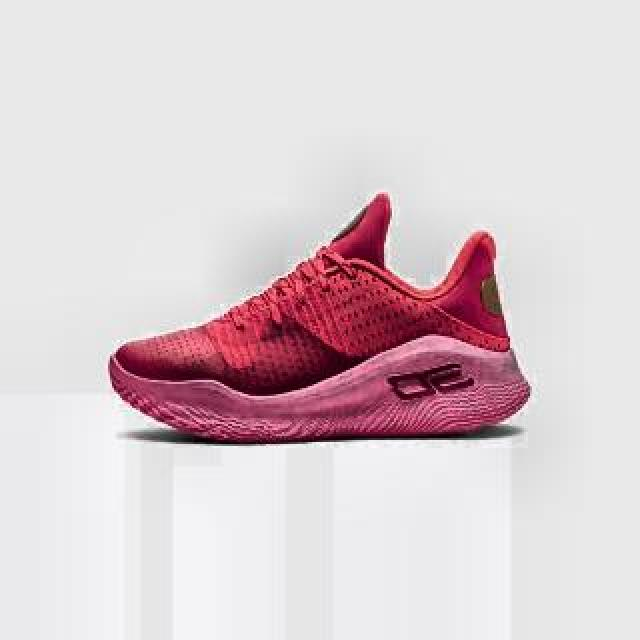shoe: (107, 195, 529, 445)
